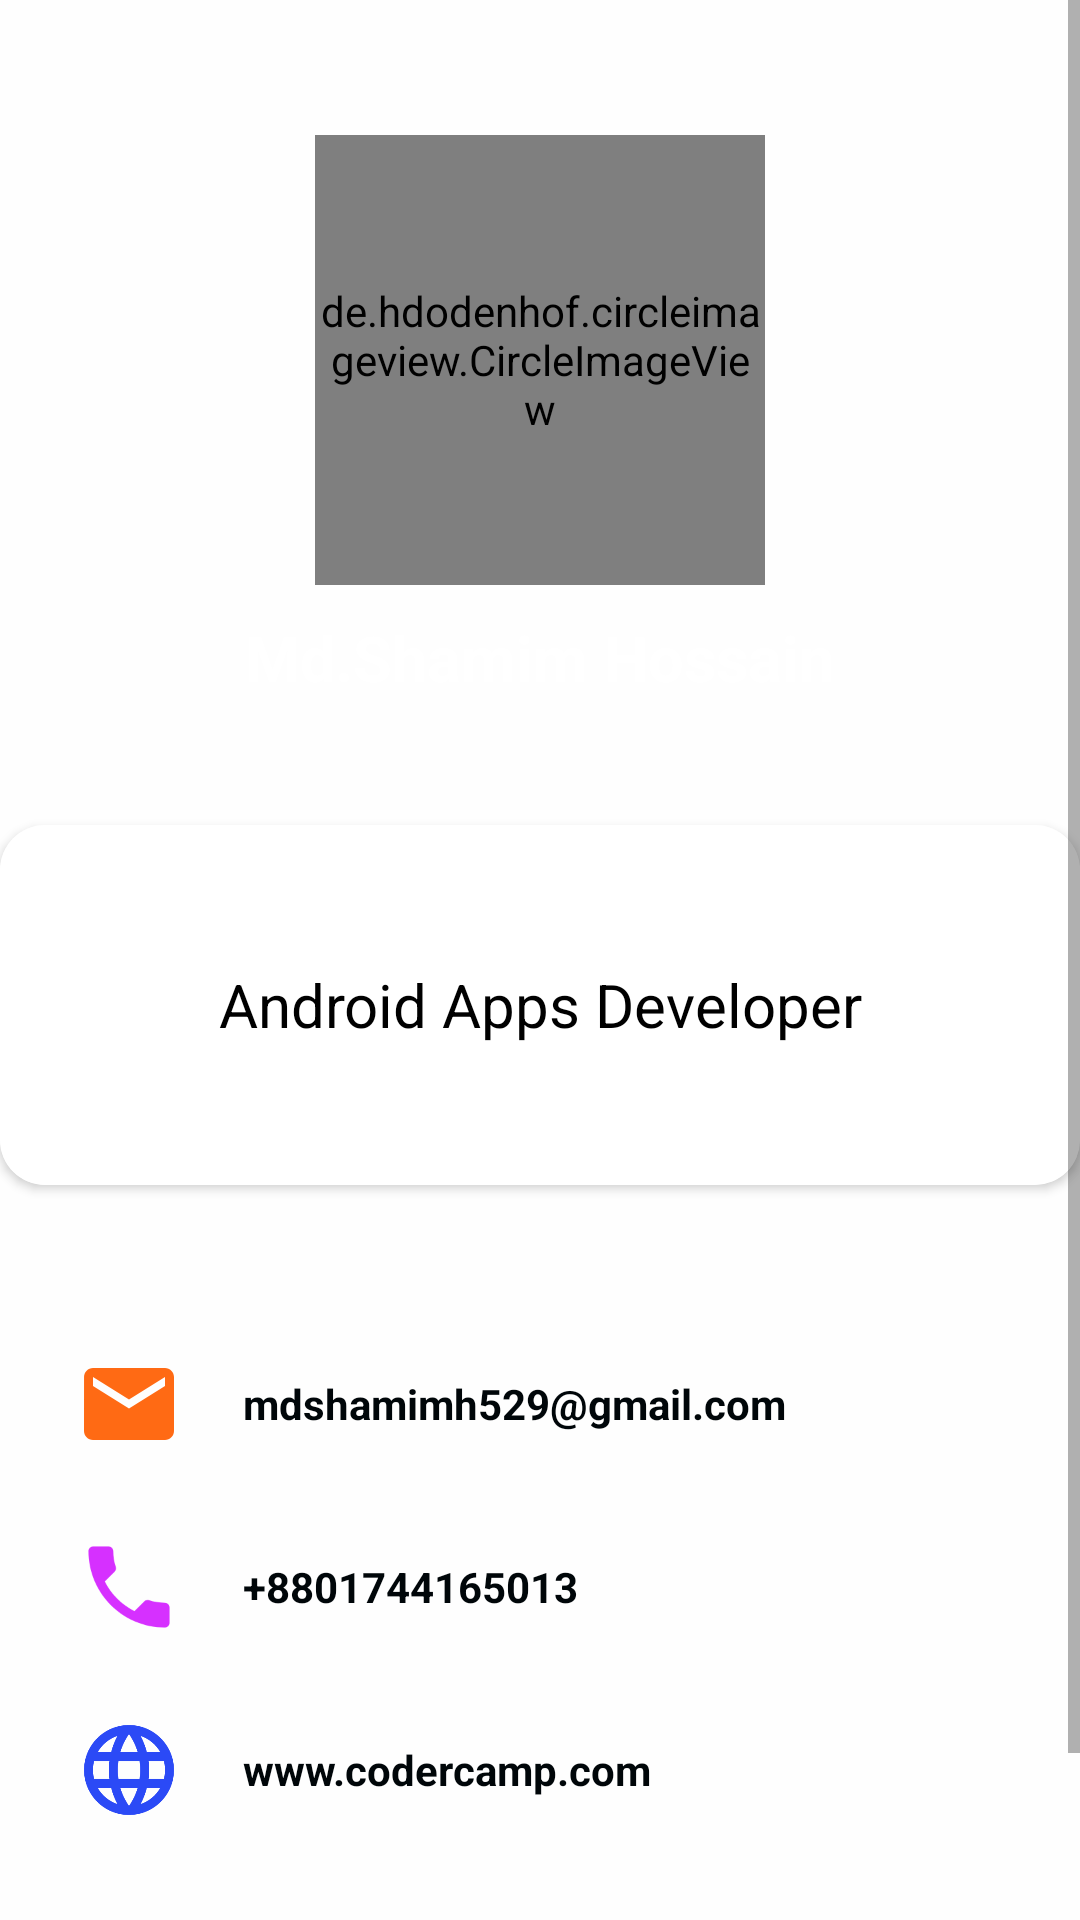

Icon bounding boxes for this 1080w x 1920h phone screenshot, format (x1, y1, x2, y2):
email: (84, 1368, 174, 1440)
language: (84, 1725, 174, 1815)
phone: (88, 1546, 170, 1628)
